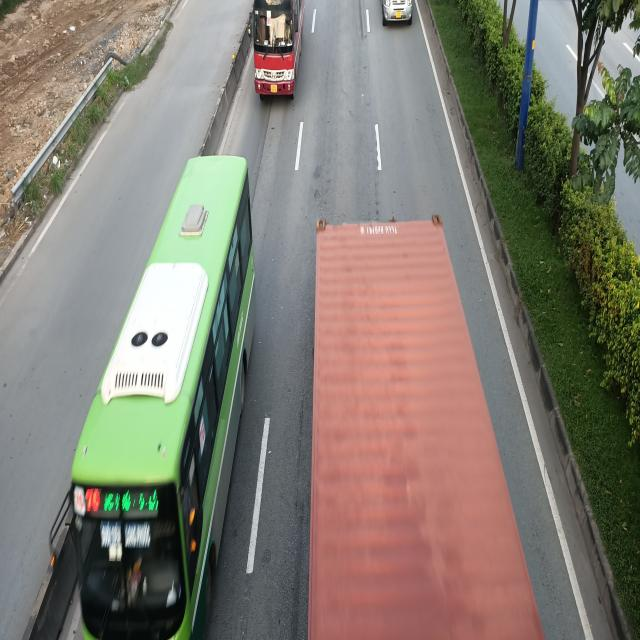coach: (69, 157, 262, 640), (247, 2, 307, 102)
container: (307, 212, 545, 638)
van: (381, 0, 414, 27)
